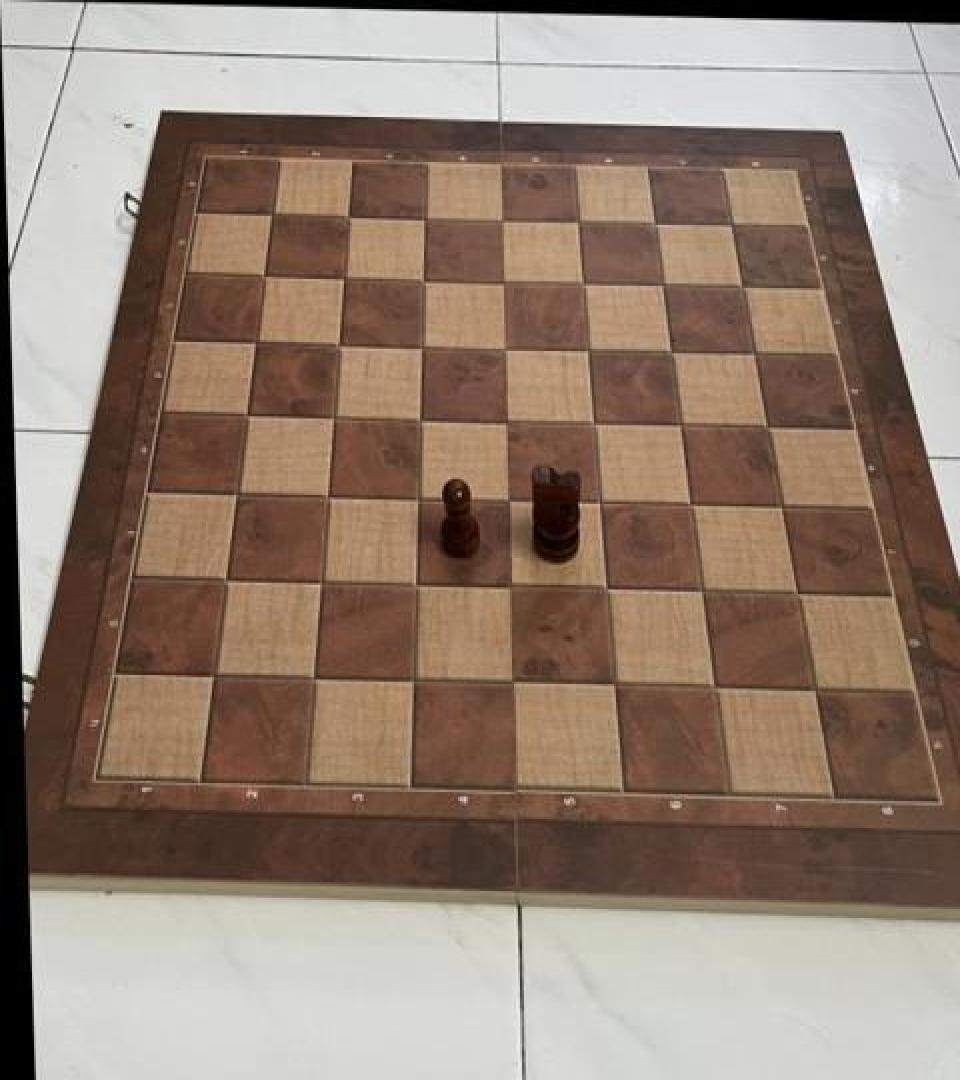xcorner: (485, 200, 521, 241), (409, 199, 445, 240), (566, 264, 602, 305), (486, 262, 522, 303), (737, 334, 773, 375), (405, 326, 441, 367), (322, 325, 358, 366), (750, 407, 786, 448), (403, 399, 439, 440), (316, 397, 352, 438), (764, 487, 800, 528), (491, 480, 527, 521), (400, 478, 436, 519), (588, 569, 624, 610), (208, 559, 244, 600), (695, 668, 731, 709), (395, 660, 431, 701), (715, 206, 751, 246), (638, 204, 674, 244), (562, 203, 598, 243), (332, 197, 368, 237), (256, 196, 292, 236), (726, 268, 762, 308), (646, 266, 682, 306), (407, 260, 443, 300), (327, 259, 363, 299), (248, 257, 284, 297), (654, 333, 690, 373), (571, 331, 607, 371), (488, 329, 524, 369), (240, 323, 276, 363), (663, 405, 699, 445), (576, 403, 612, 443), (489, 402, 525, 442), (230, 395, 266, 435), (672, 485, 708, 525), (581, 483, 617, 523), (310, 476, 346, 516), (220, 474, 256, 514), (779, 575, 815, 615), (683, 573, 719, 613), (492, 567, 528, 607), (398, 565, 434, 605), (303, 563, 339, 603), (795, 672, 831, 712), (594, 666, 630, 706), (494, 663, 530, 703), (295, 657, 331, 697), (196, 655, 232, 695)
